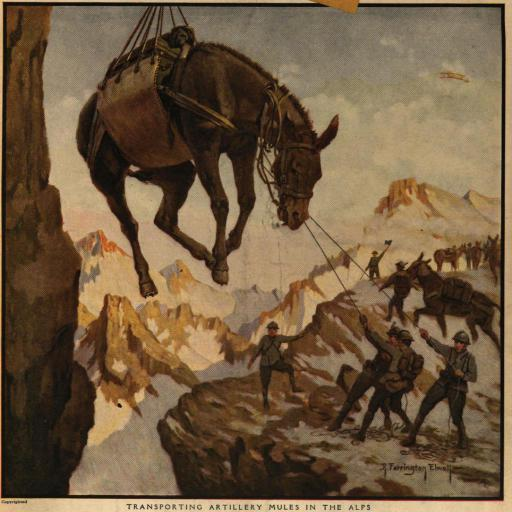horse: (74, 40, 338, 296), (406, 254, 502, 350), (434, 242, 471, 274), (488, 235, 504, 287), (468, 239, 482, 271)
